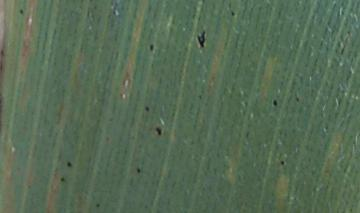tarspot: (194, 26, 208, 52), (152, 121, 165, 140), (147, 40, 157, 55), (64, 158, 75, 171), (270, 95, 280, 109), (277, 157, 288, 169), (135, 163, 143, 177), (58, 174, 68, 185), (142, 104, 152, 115), (294, 94, 304, 105), (94, 198, 103, 210), (17, 6, 26, 16), (229, 10, 238, 18)
